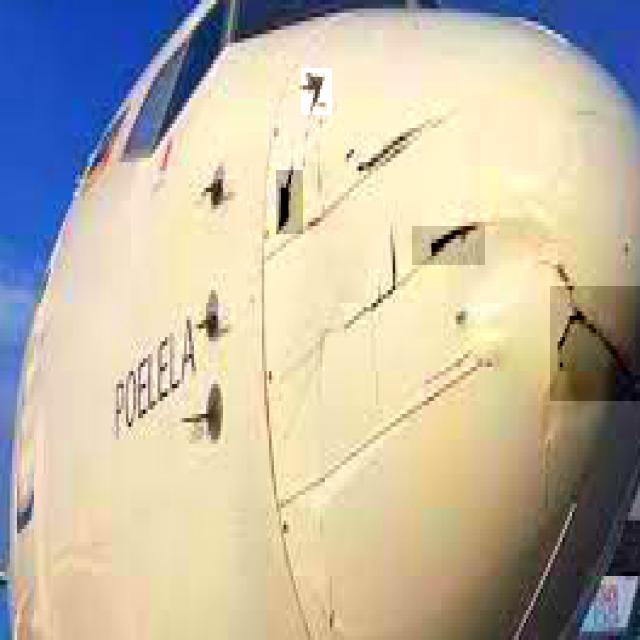crack: (551, 287, 640, 402), (413, 227, 486, 266), (277, 172, 304, 236), (302, 69, 333, 116)
